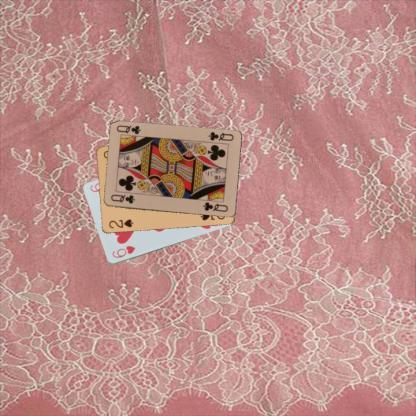2s: (106, 216, 134, 231)
6h: (110, 244, 136, 260)
Qc: (108, 192, 136, 206), (206, 130, 235, 142)
